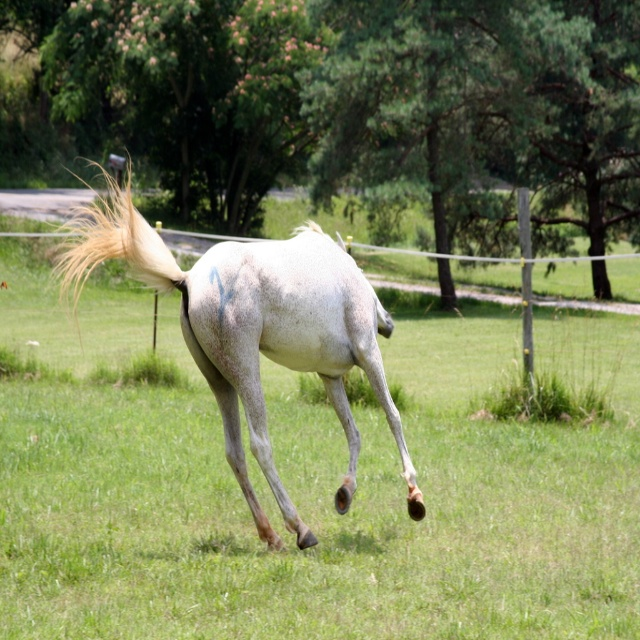Horse: (54, 143, 426, 551)
